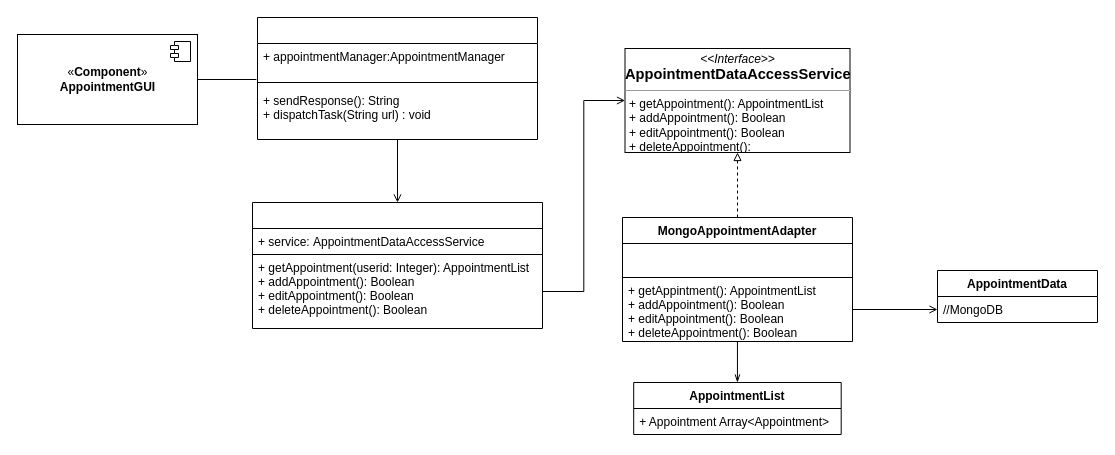
This 1115x455 diagram has some shape labels left out. The shapes that lost their labels are listed below. From the top down, each one's box as (x1, y1, x2, y2) in pixels, then its label:
(256, 16, 538, 140): ServerDispatcher
(252, 202, 542, 328): AppointmentManager
(622, 242, 852, 278): + list:AppointmentList
